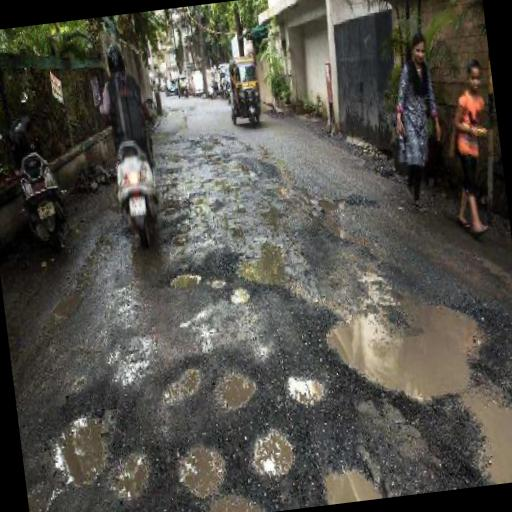pothole: (318, 274, 497, 414), (40, 392, 128, 491), (228, 225, 314, 303), (463, 386, 512, 485), (317, 450, 387, 500), (174, 435, 230, 497), (246, 420, 298, 476), (104, 443, 154, 501), (158, 358, 210, 408), (208, 361, 261, 409), (201, 485, 269, 512), (284, 368, 328, 405), (165, 265, 203, 291), (228, 283, 252, 306), (208, 277, 228, 289)
